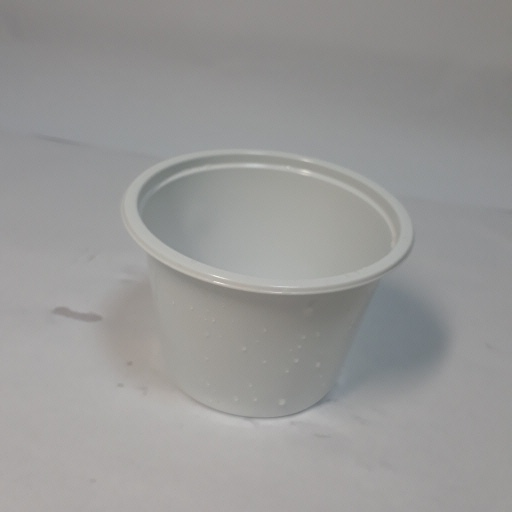Plastic_5: (119, 148, 417, 419)
